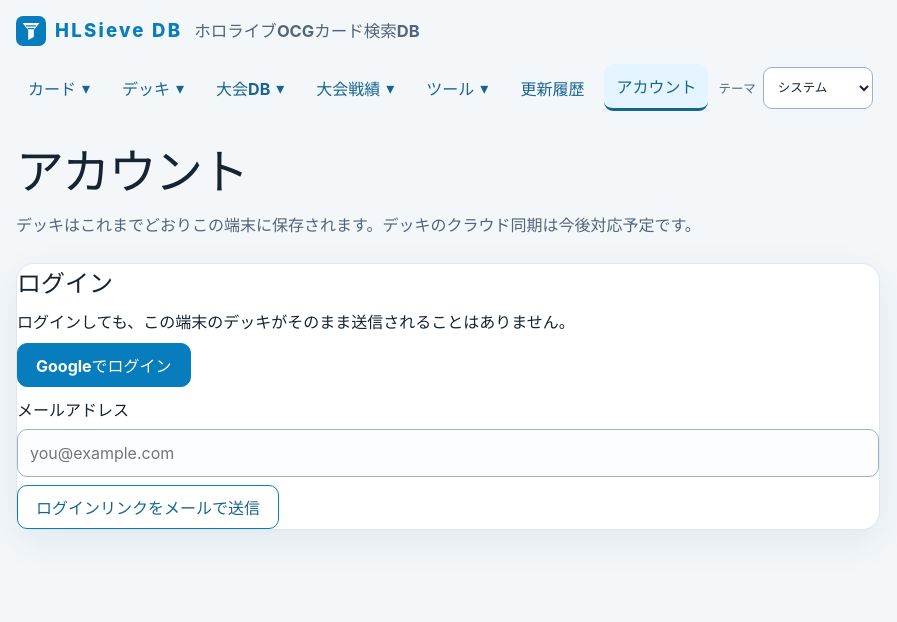
Test case: account page while signed out › explains an address our own check rejects
Expected: the heading "ログイン" is shown, [17,269,113,298]
Accepted by the browser, rejected by us for having no domain dot.
Type "player@example" into the field labelled "メールアドレス". click: (448, 453)
box: [17,429,879,477]
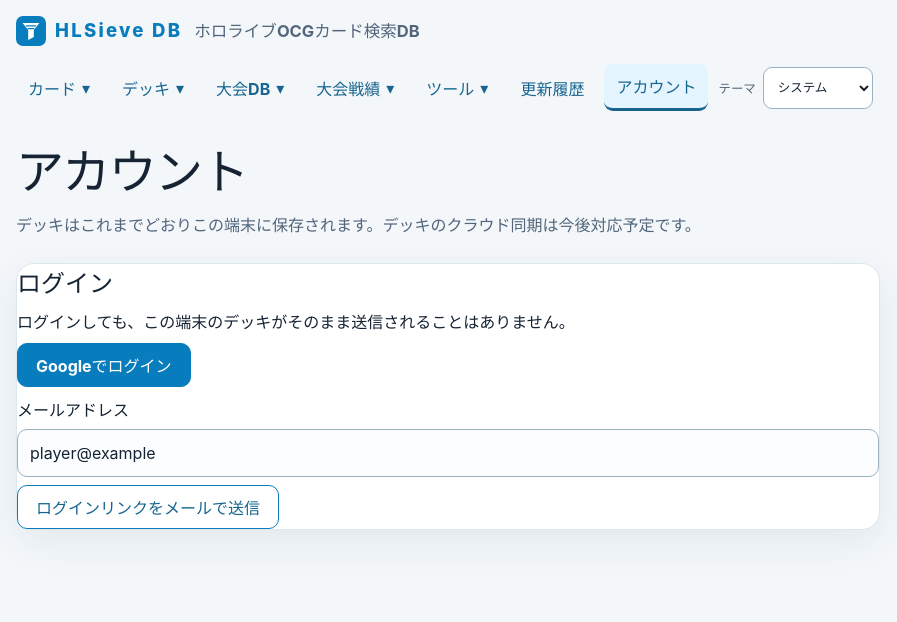
Click the button "ログインリンクをメールで送信". click: (148, 507)
box: [17,485,279,529]
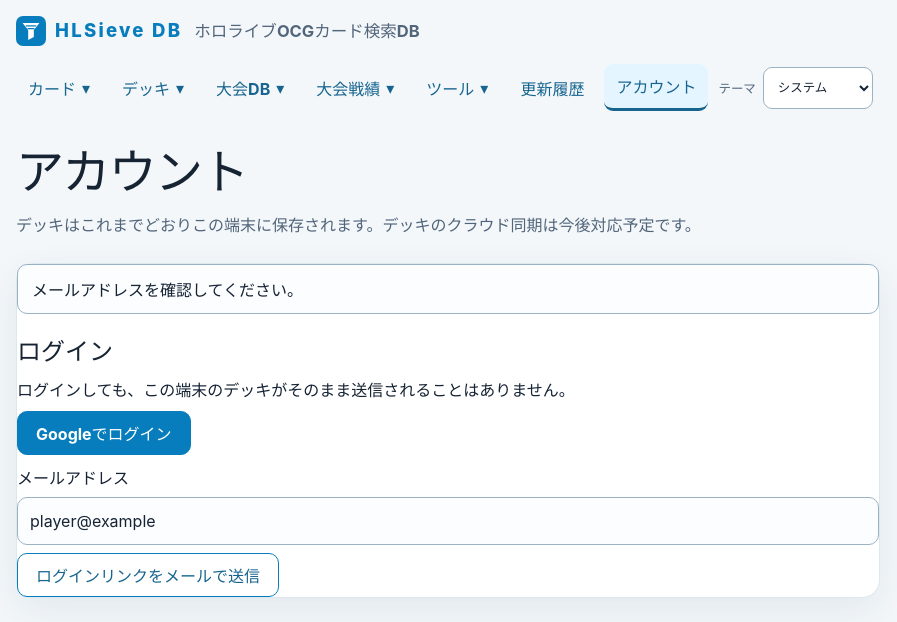
Result: the message reads "メールアドレスを確認してください。" at [32,280,303,300]
